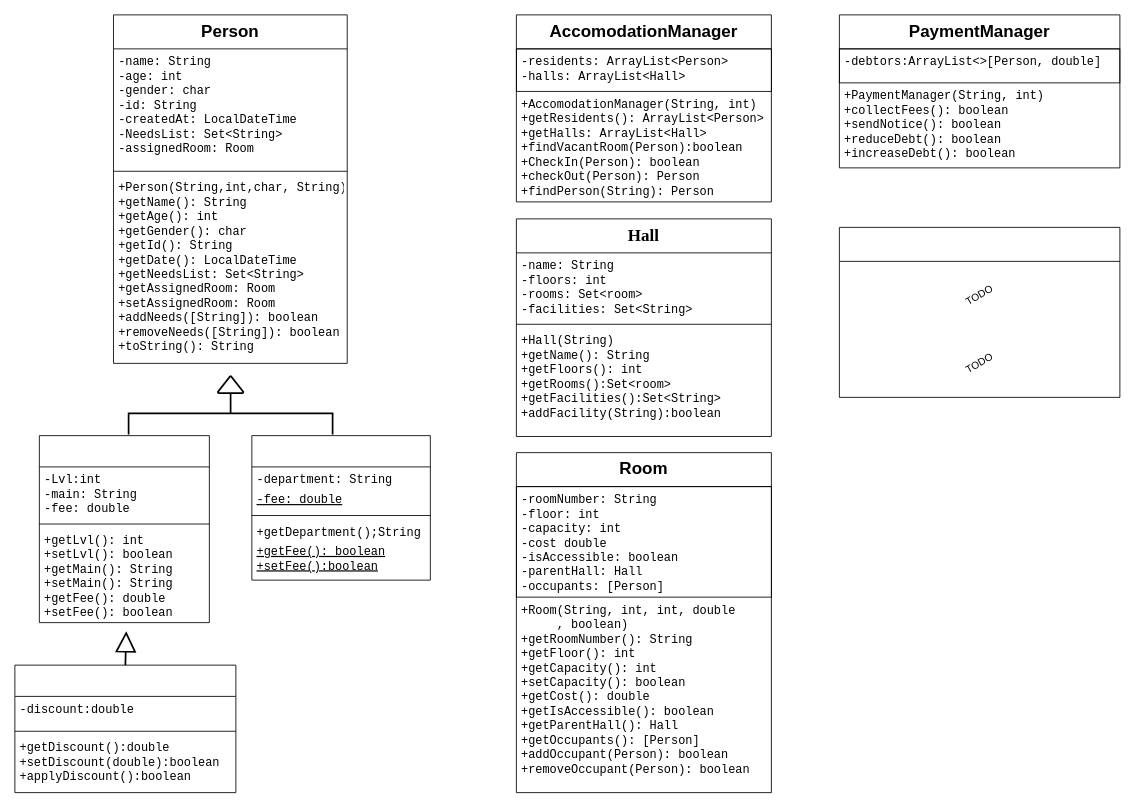
Some shapes in this 1135 by 810 pixel diagram are drawn without their labels. Here are the shapes that lost their labels. From the top down, the box of each, then its label:
(839, 227, 1120, 397): DataManager
(251, 435, 430, 580): Employee
(39, 435, 209, 623): Student
(14, 664, 236, 793): SeniorStudent
